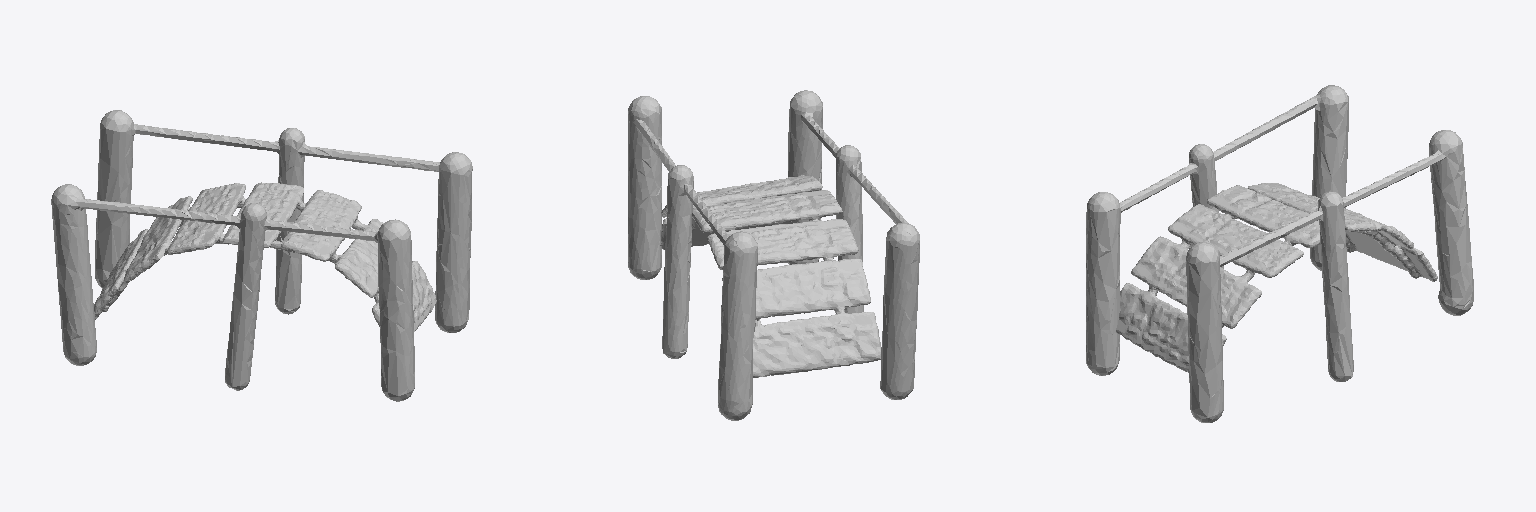
Rendered from ponte_madeira.obj.
3 views of the same model, side by side, from view 1: azimuth 30°, elevation 25°; view 2: azimuth 150°, elevation 25°; view 3: azimuth 270°, elevation 25° (orthographic).
Parts seen in each view (by area): view 1: ponte_madeira; view 2: ponte_madeira; view 3: ponte_madeira.
Boxes of the visible parts, <box> form: ponte_madeira: <box>51,110,472,401</box>; ponte_madeira: <box>628,90,919,420</box>; ponte_madeira: <box>1086,85,1473,422</box>.
Bounding box in the file's own units: 0.0813 × 0.043 × 0.0776.